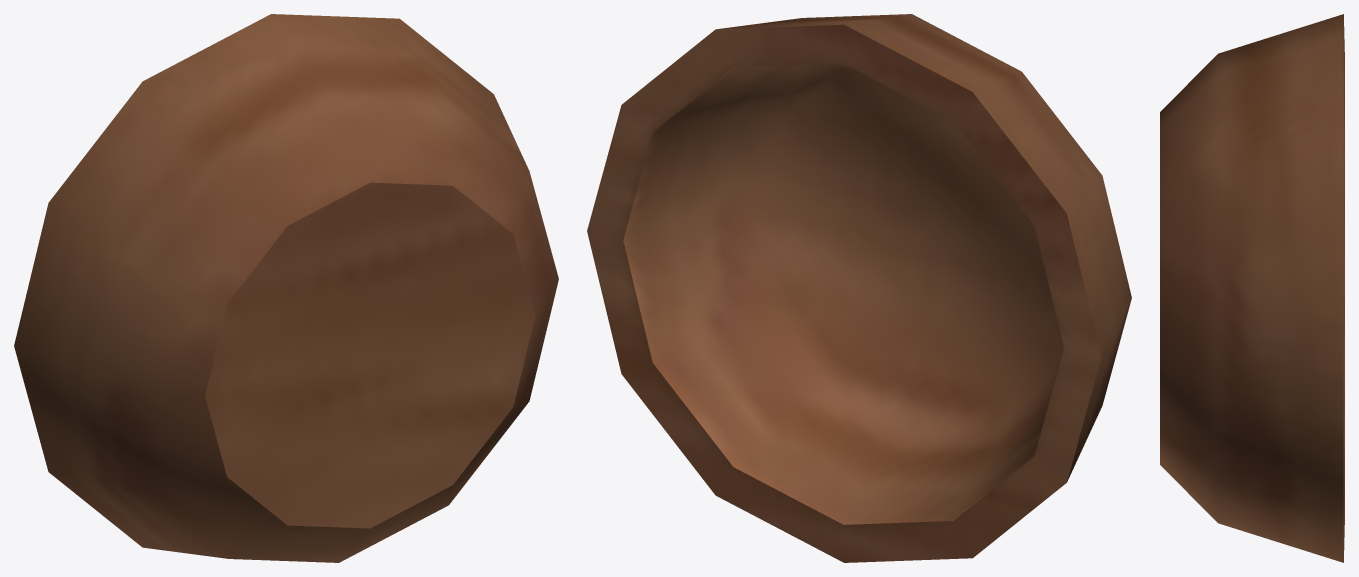
File: Plate002.fbx
3 views of the same model, side by side, from view 1: azimuth 30°, elevation 25°; view 2: azimuth 150°, elevation 25°; view 3: azimuth 270°, elevation 25° (orthographic). The views are drawn at different scales.
Visible parts, largest first — view 1: Plate002; view 2: Plate002; view 3: Plate002.
Part boxes in pixels (box(x1,y1,x2,y2)): Plate002: box(14, 14, 558, 562); Plate002: box(587, 14, 1131, 562); Plate002: box(1160, 14, 1344, 562).
Bounding box in the file's own units: 0.15 × 0.15 × 0.0503.
